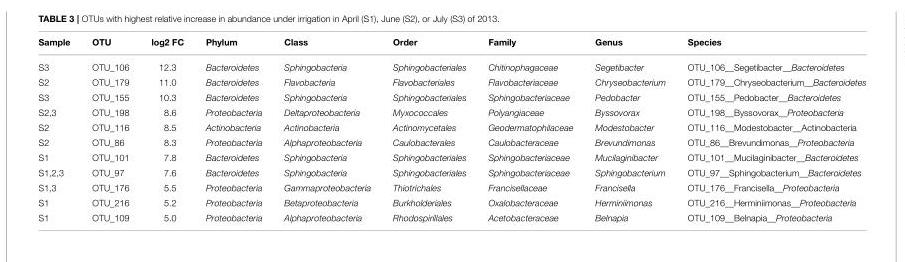table: (38, 37, 866, 222)
table column: (676, 37, 866, 222), (273, 37, 382, 222), (477, 37, 584, 222), (382, 37, 477, 222), (584, 37, 676, 222), (194, 37, 273, 222), (81, 37, 140, 222), (140, 37, 194, 222), (38, 37, 81, 222)
table column header: (38, 37, 866, 54)
table row: (38, 54, 866, 74), (38, 37, 866, 54), (38, 134, 866, 150), (38, 74, 866, 89), (38, 89, 866, 104), (38, 104, 866, 119), (38, 119, 866, 134), (38, 150, 866, 165), (38, 165, 866, 180), (38, 180, 866, 195), (38, 195, 866, 210), (38, 210, 866, 222)
